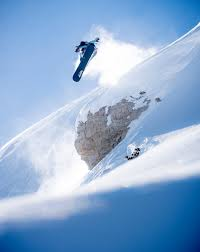snowboard: (72, 43, 95, 83)
